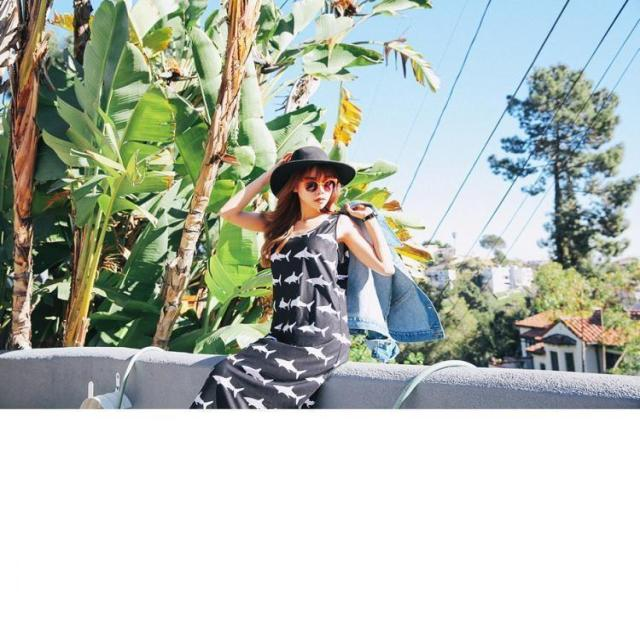vest dress: (189, 213, 351, 409)
